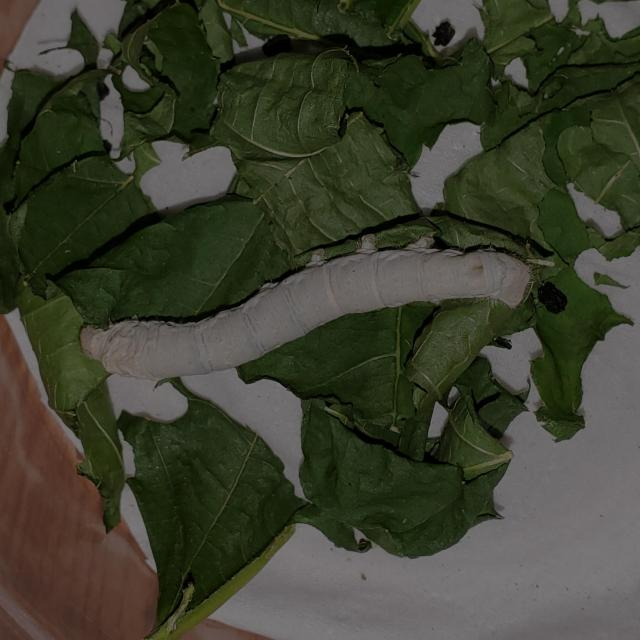Healthy: (53, 218, 572, 406)
